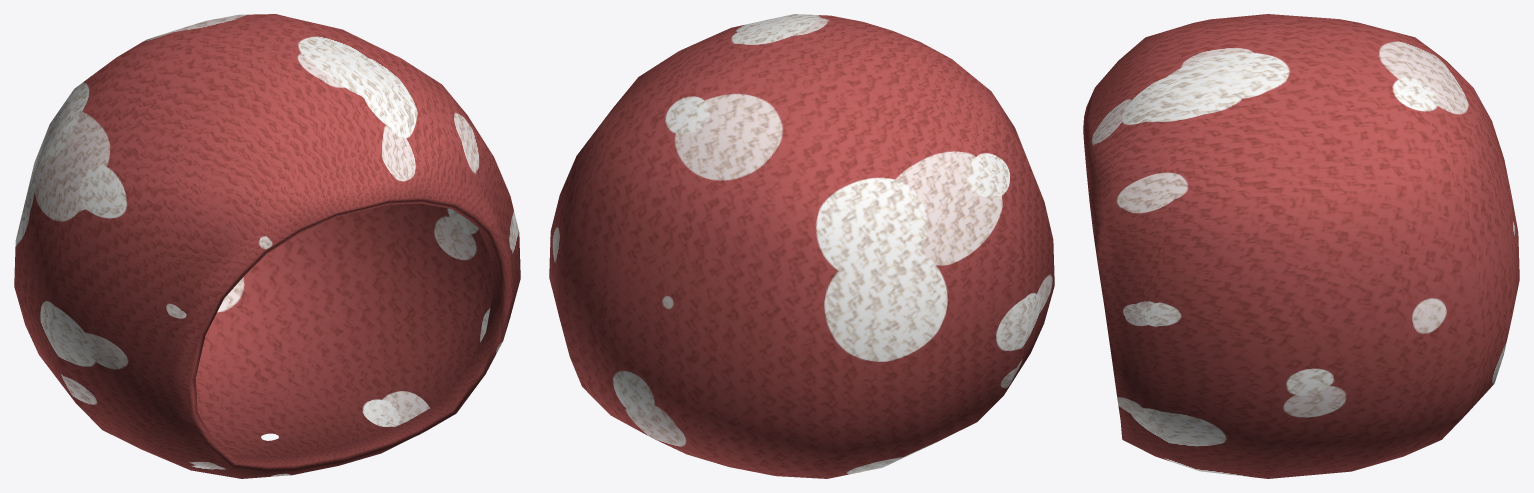
Rendered from HatA.fbx.
The picture shows the model from 3 angles, left to right: view 1: azimuth 30°, elevation 25°; view 2: azimuth 150°, elevation 25°; view 3: azimuth 270°, elevation 25°; orthographic projection. The views are drawn at different scales.
Visible parts, largest first — view 1: HatA; view 2: HatA; view 3: HatA.
Boxes of the visible parts, x1,y1,x2,y2 form: HatA: (14, 14, 520, 478); HatA: (549, 14, 1054, 478); HatA: (1083, 14, 1519, 478).
Size of the model in its own units: 39.81 by 33.6 by 33.63.
Materials: 1 (1 with a texture image).
